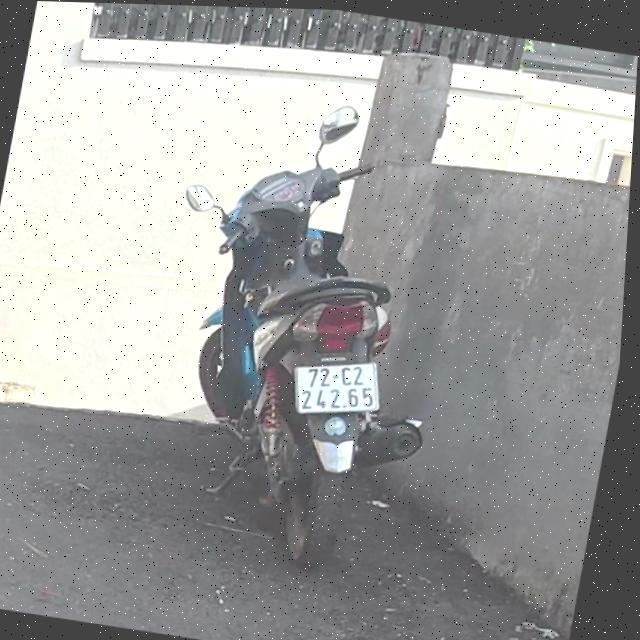motorcycle: (116, 81, 489, 585)
plate: (284, 349, 385, 424)
